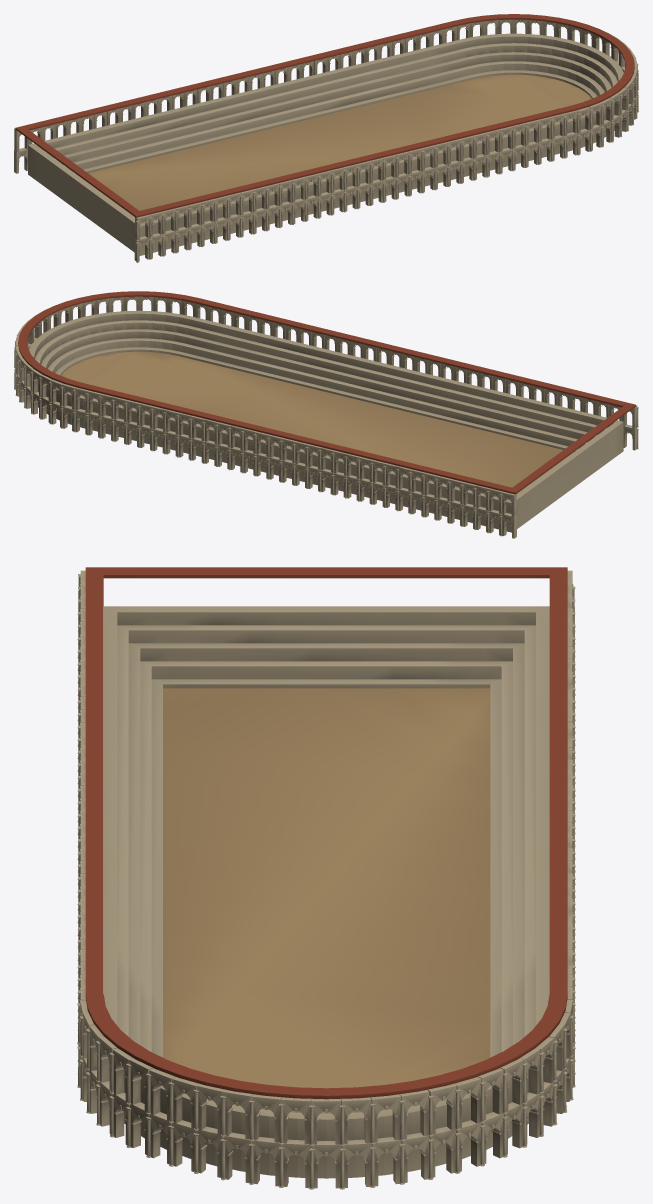
File: stadium-of-domitian.glb
The picture shows the model from 3 angles, top to bottom: view 1: azimuth 30°, elevation 25°; view 2: azimuth 150°, elevation 25°; view 3: azimuth 270°, elevation 25°; orthographic projection. The views are drawn at different scales.
Parts seen in each view (by area): view 1: p0_track, p1_facade, p2_roof; view 2: p0_track, p1_facade, p2_roof; view 3: p0_track, p1_facade, p2_roof.
Part boxes in pixels (x1,y1,x2,y2): p0_track: [28, 33, 623, 255]; p1_facade: [14, 19, 638, 262]; p2_roof: [15, 14, 634, 217]; p0_track: [29, 310, 623, 532]; p1_facade: [14, 296, 638, 538]; p2_roof: [18, 291, 635, 494]; p0_track: [104, 606, 549, 1178]; p1_facade: [77, 570, 575, 1189]; p2_roof: [85, 567, 567, 1099].
Size of the model in its own units: 277 by 21.92 by 110.
